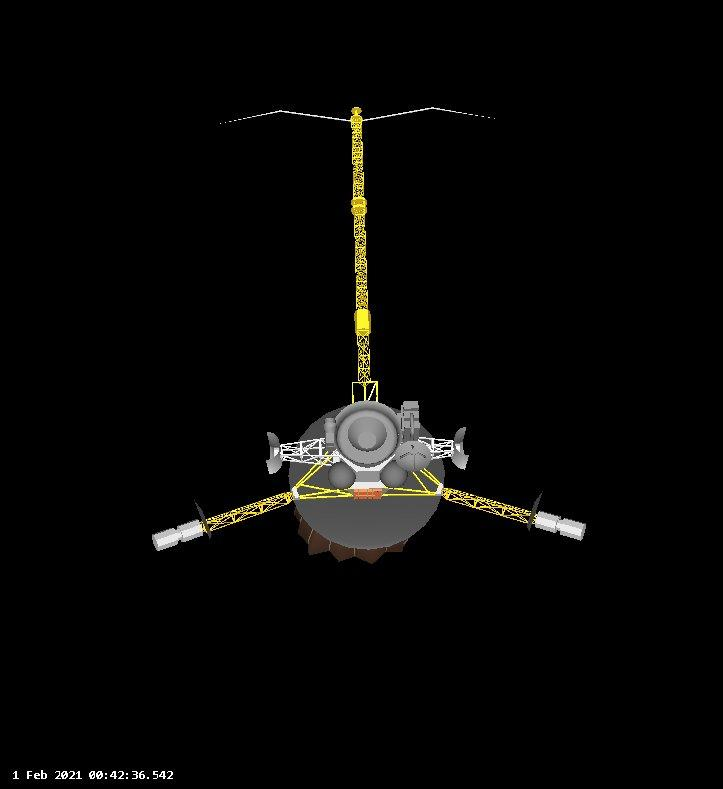antenna: (149, 482, 292, 553), (346, 88, 378, 401), (440, 485, 592, 547), (260, 424, 334, 474), (411, 424, 474, 471), (395, 441, 431, 473)
body: (288, 399, 447, 567)
thruster: (348, 415, 387, 454)
